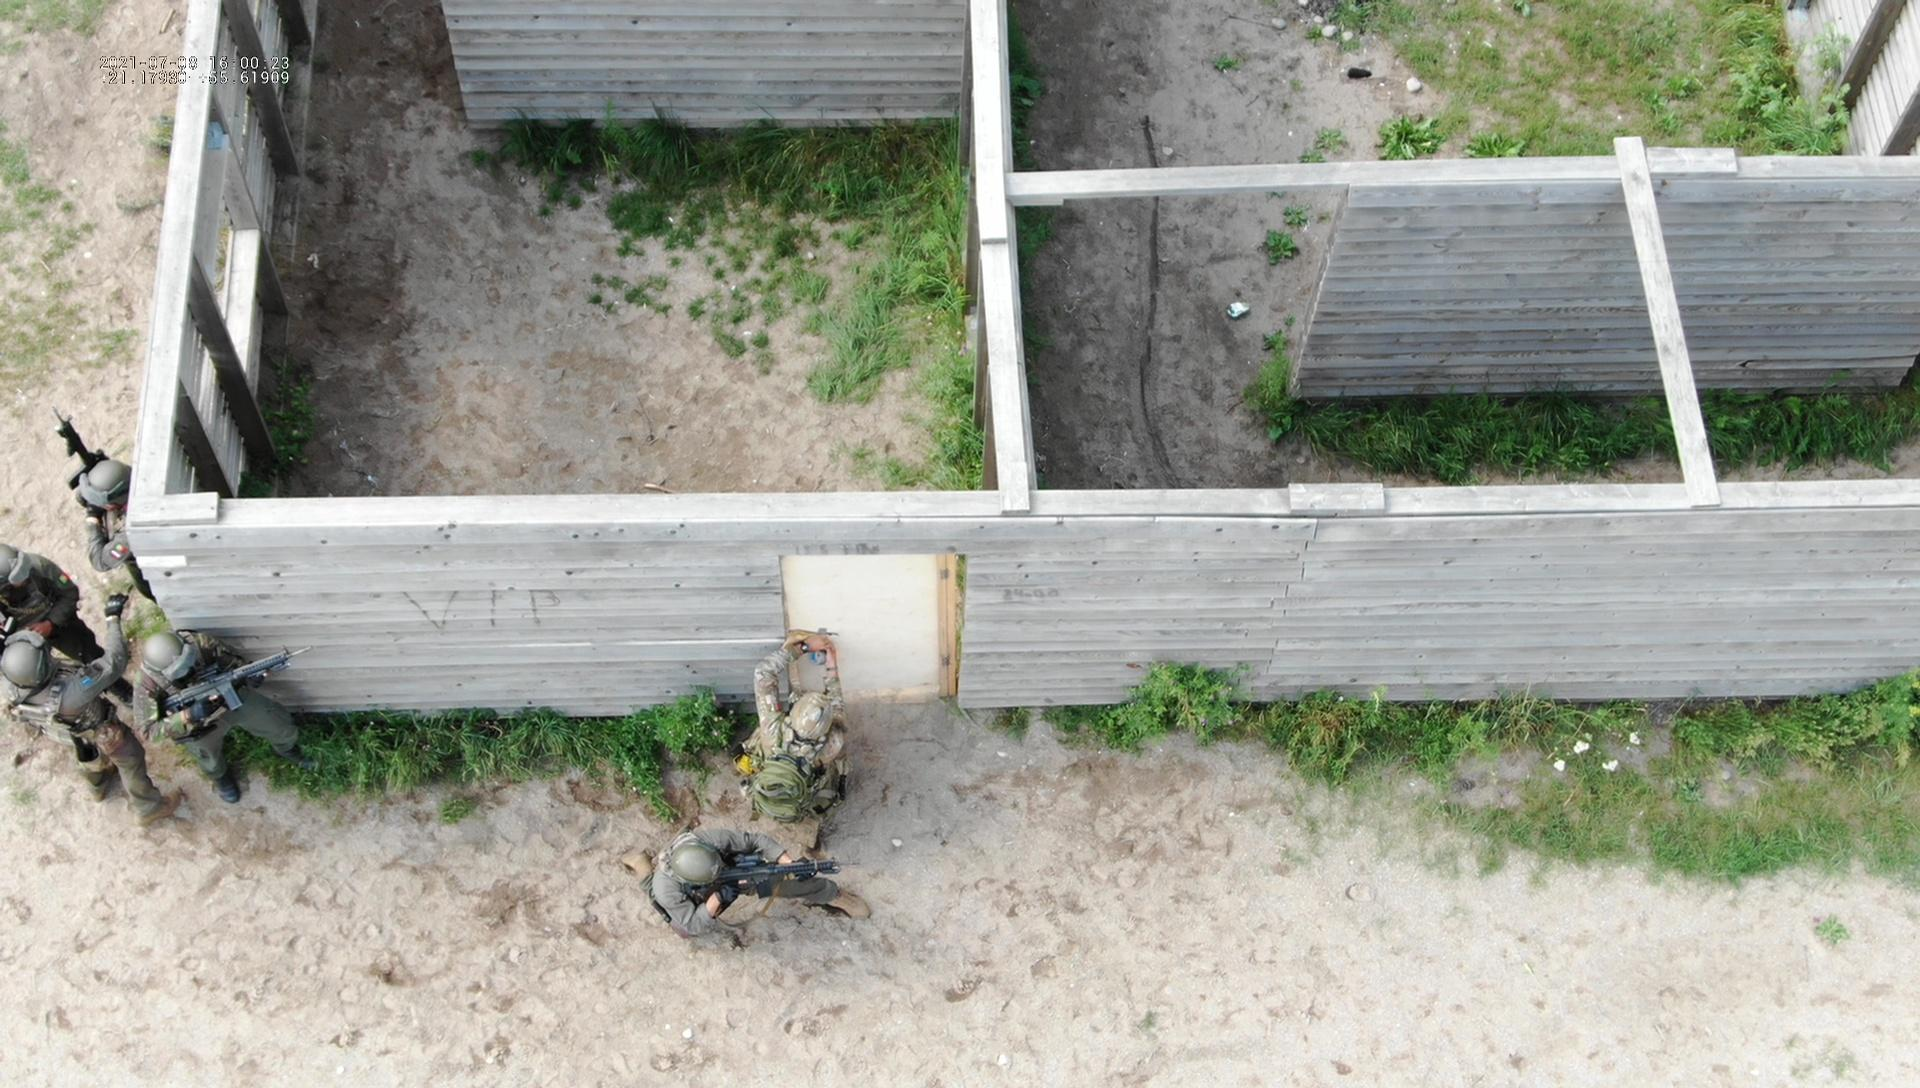Soldier: (655, 795, 887, 986), (161, 597, 320, 860), (719, 601, 893, 831), (5, 620, 171, 816), (30, 418, 145, 553), (0, 539, 102, 651)
